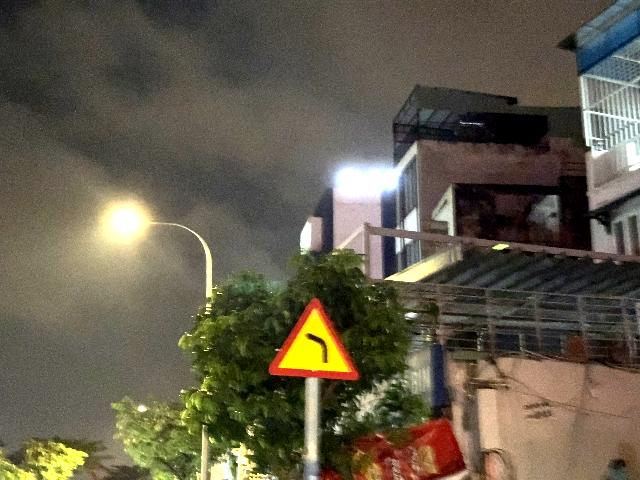cho-ngoat-nguy-hiem-ben-trai: (267, 296, 360, 381)
